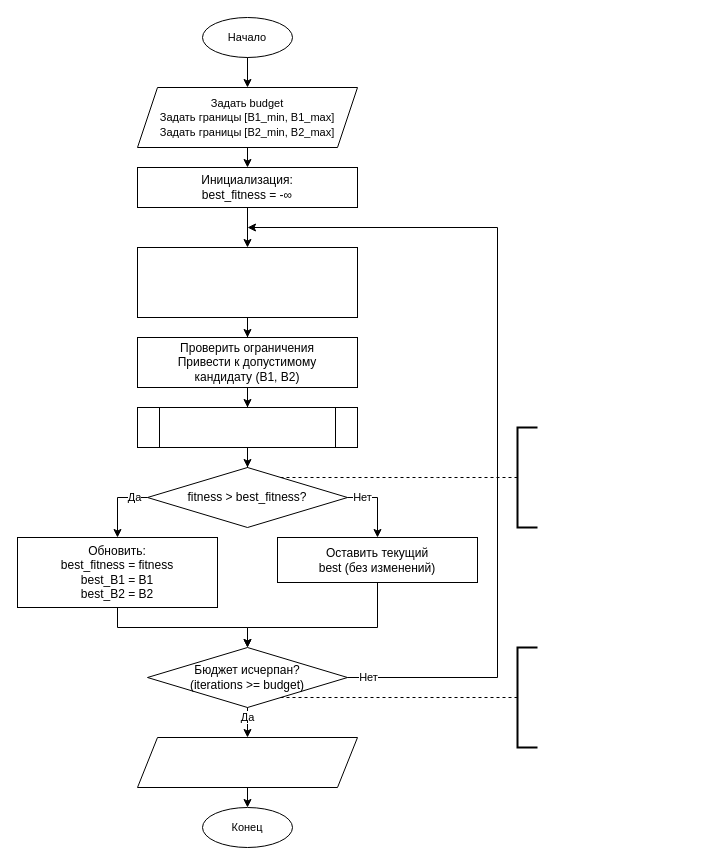
This 701x865 diagram has some shape labels left out. Here are the shapes that lost their labels. From the top down, the box of each, then its label:
(136, 246, 358, 318): Сэмплировать случайные точки: x1 = log10(B1) x2 = log10(B2) в заданных границах
(136, 406, 358, 448): Вычислить fitness(B1, B2) через запуски GMP-ECM
(516, 426, 538, 528): Сравнение оценки с текущей лучшей
(516, 646, 538, 748): Цикл повторяется пока не исчерпан бюджет
(136, 736, 358, 788): Вернуть лучшие параметры: best_B1, best_B2
